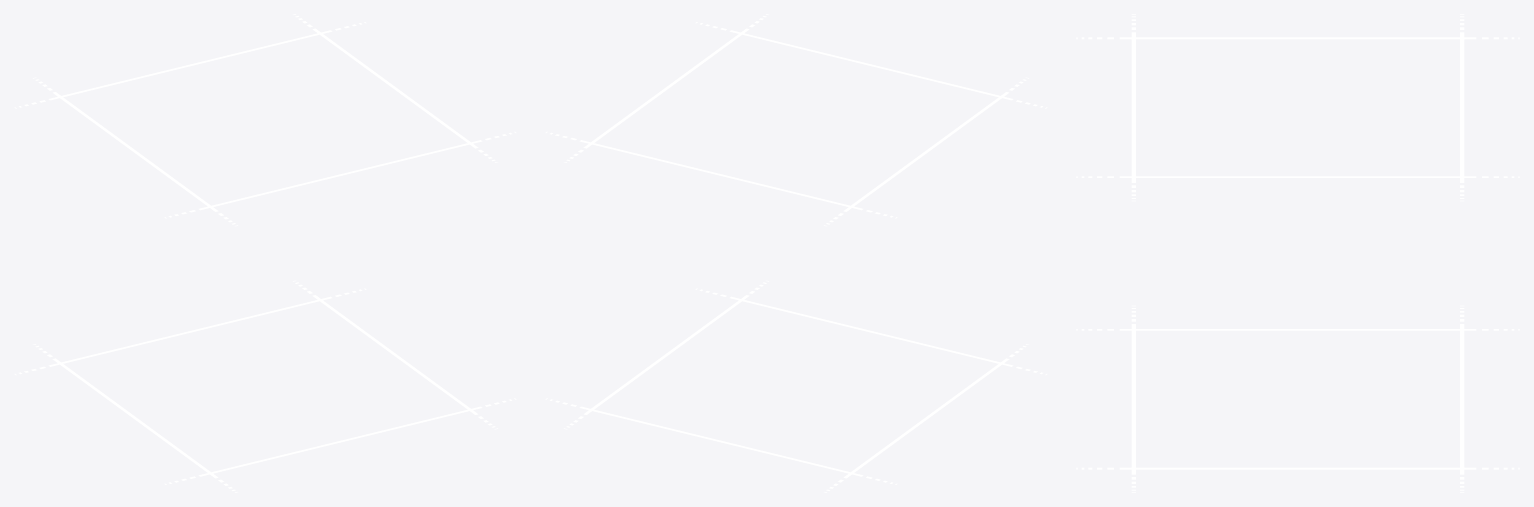
File: cansy_cube_3.glb
3 views of the same model, side by side, from view 1: azimuth 30°, elevation 25°; view 2: azimuth 150°, elevation 25°; view 3: azimuth 270°, elevation 25° (orthographic). The views are drawn at different scales.
Parts seen in each view (by area): view 1: Cube.002; view 2: Cube.002; view 3: Cube.002.
Boxes of the visible parts, left/top/right/bottom form: Cube.002: left=14, top=14, right=516, bottom=492; Cube.002: left=545, top=14, right=1047, bottom=492; Cube.002: left=1076, top=14, right=1519, bottom=492.
Size of what is drawn, in the model's own units: 16 by 11.61 by 16.
1 material, 1 textured.
